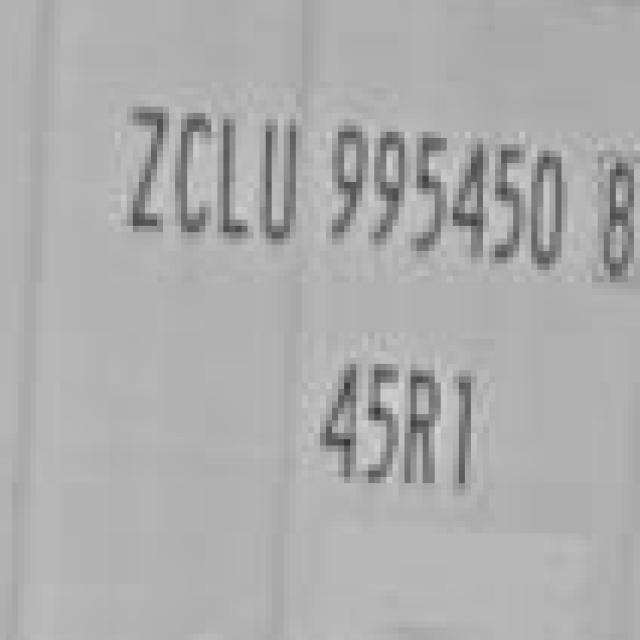dv: (587, 145, 640, 290)
owner: (103, 82, 304, 268)
serial: (322, 111, 570, 289)
size: (304, 355, 490, 501)
